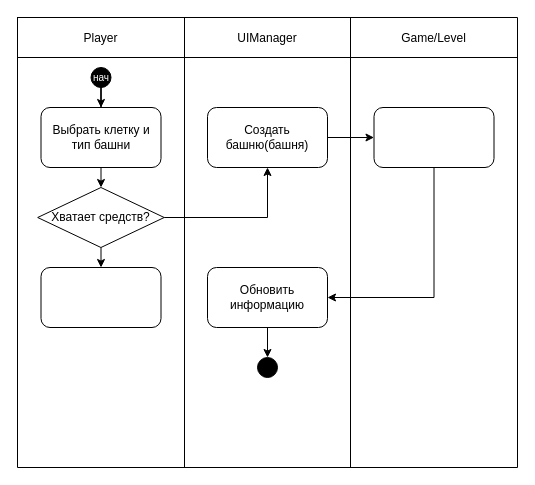
The diagram is 535 pixels wide and 485 high, and some of its shapes have lost their labels. The box of each missing label's shape, as (x1, y1, x2, y2) in pixels:
Добавить башню: (373, 106, 494, 168)
кон: (256, 356, 278, 378)
Показать ошибку "недостаточно средств": (40, 266, 161, 328)
